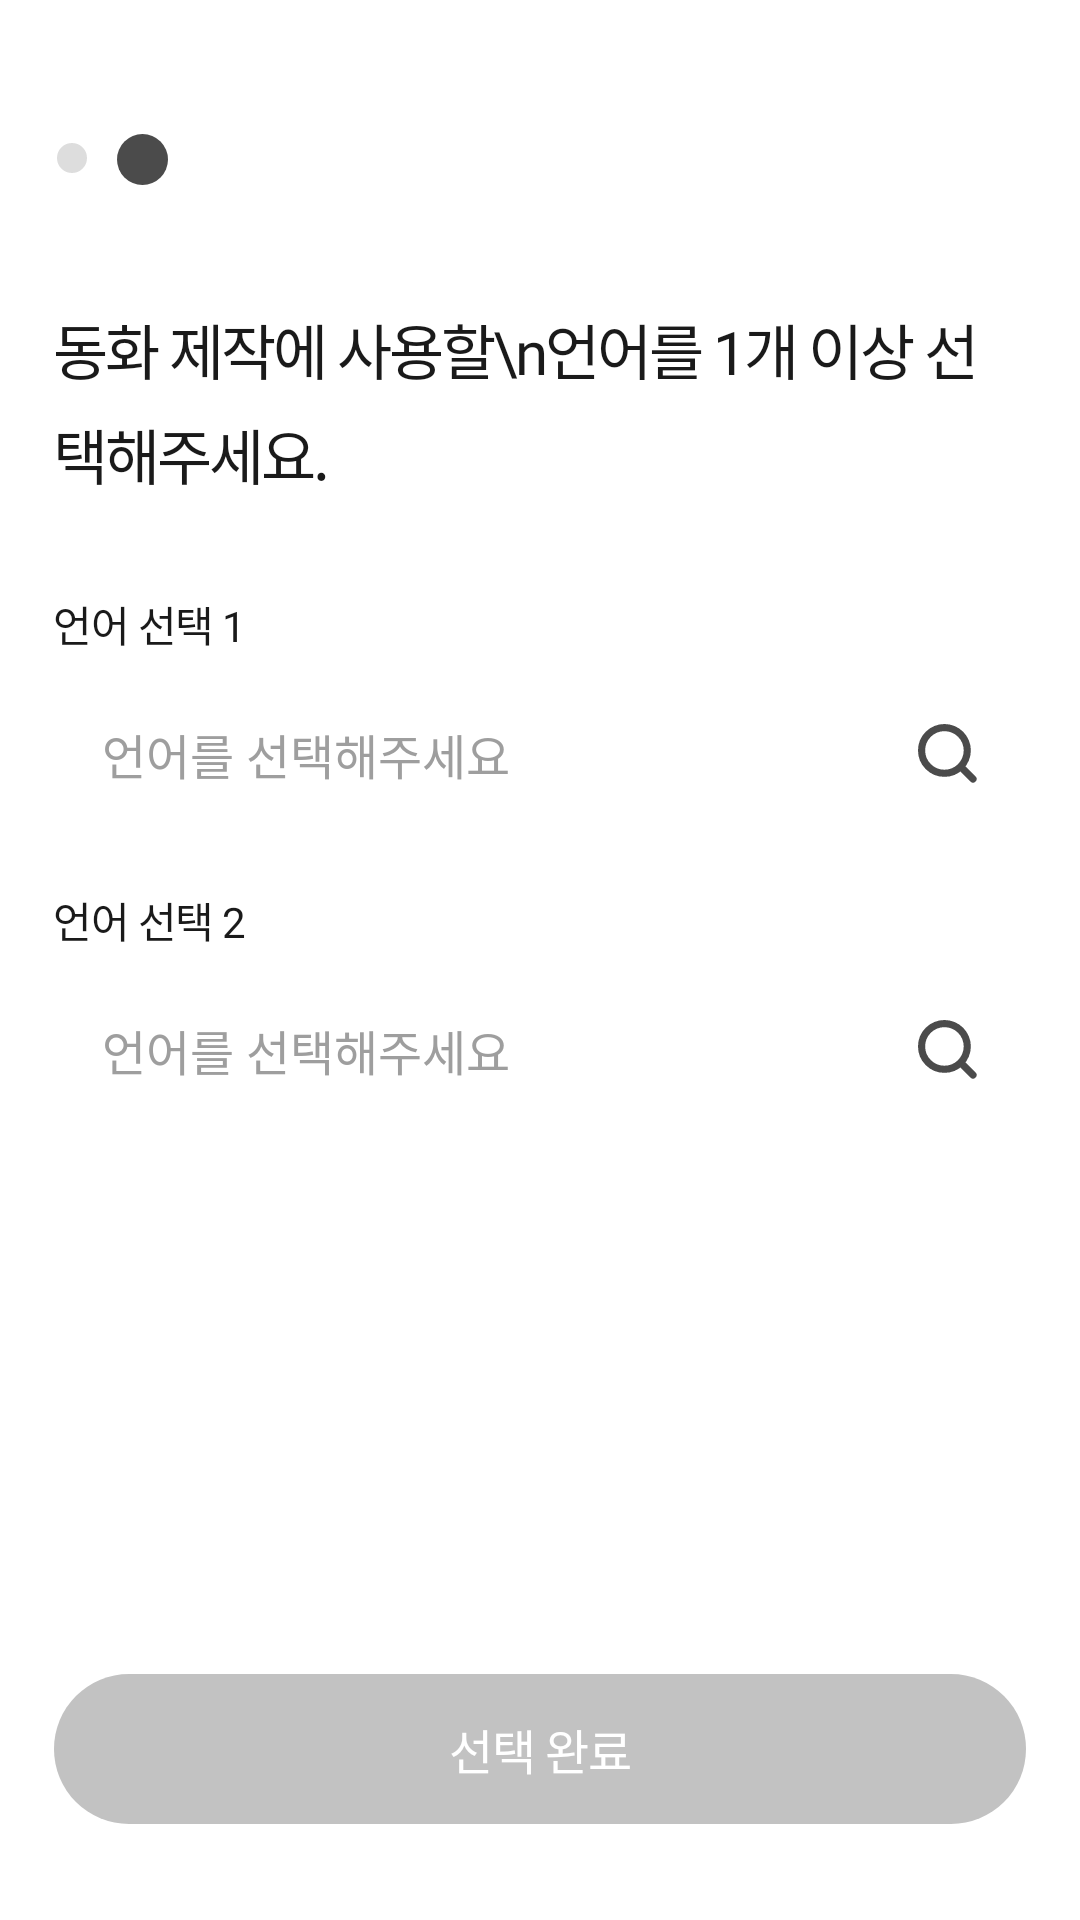

Icons on this 1080 x 1920 Android screen, each with the point to tap as point (x, y):
search: point (947, 753), point (947, 1049)
